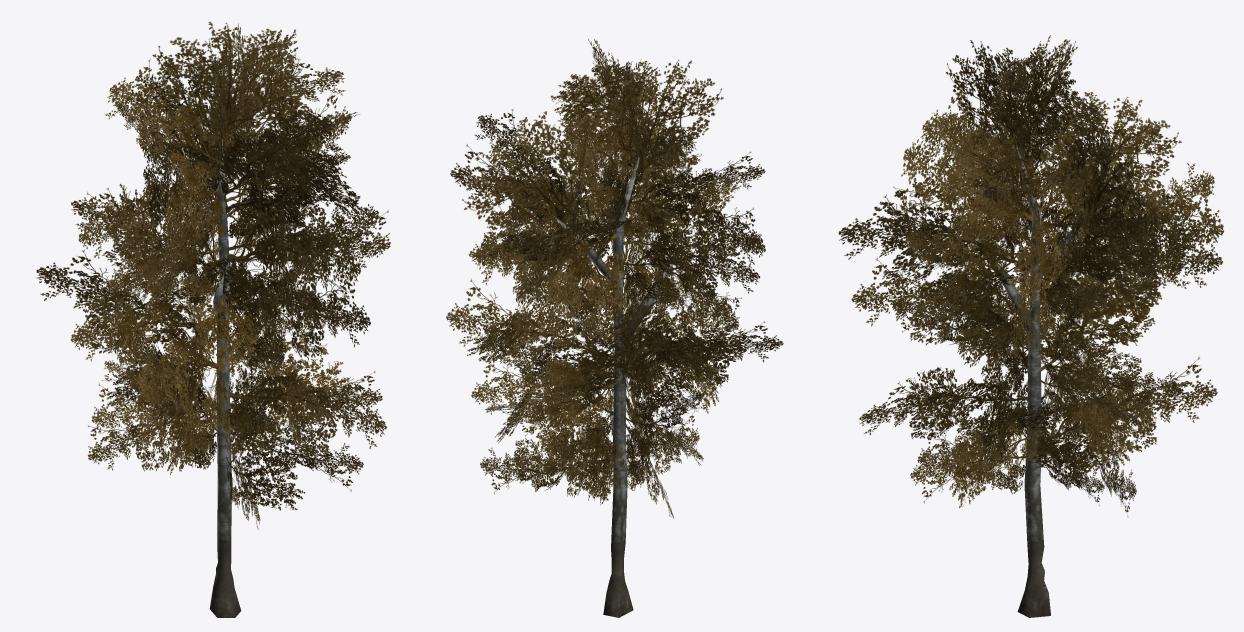
Rendered from tree-a.glb.
3 renders of one model, left to right at view 1: azimuth 30°, elevation 25°; view 2: azimuth 150°, elevation 25°; view 3: azimuth 270°, elevation 25°, orthographic. The views are drawn at different scales.
Visible parts, largest first — view 1: Tree_Branches_02_Tree_Branches_02_0, Tree_Trunk_02_Tree_Trunk_02_0; view 2: Tree_Branches_02_Tree_Branches_02_0, Tree_Trunk_02_Tree_Trunk_02_0; view 3: Tree_Branches_02_Tree_Branches_02_0, Tree_Trunk_02_Tree_Trunk_02_0.
Boxes of the visible parts, x1,y1,x2,y2 form: Tree_Branches_02_Tree_Branches_02_0: (36,21,390,529); Tree_Trunk_02_Tree_Trunk_02_0: (209,139,241,617); Tree_Branches_02_Tree_Branches_02_0: (446,39,783,518); Tree_Trunk_02_Tree_Trunk_02_0: (554,157,682,617); Tree_Branches_02_Tree_Branches_02_0: (838,35,1223,516); Tree_Trunk_02_Tree_Trunk_02_0: (976,134,1116,617).
Bounding box in the file's own units: 0.5575 × 1 × 0.6457.
Materials: 2 (2 with a texture image).
